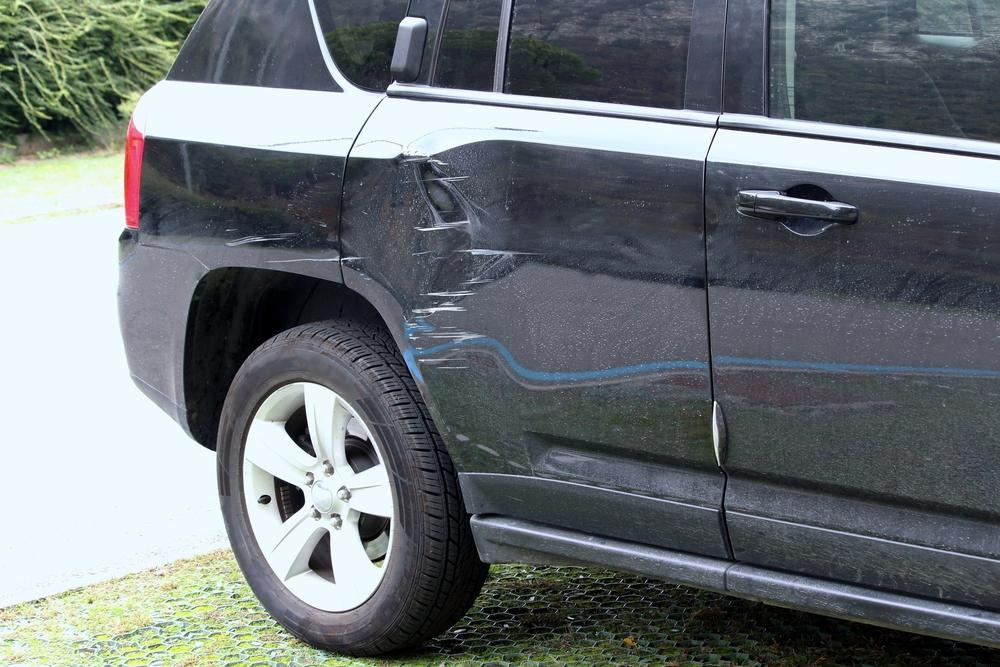dent: (406, 142, 531, 461)
